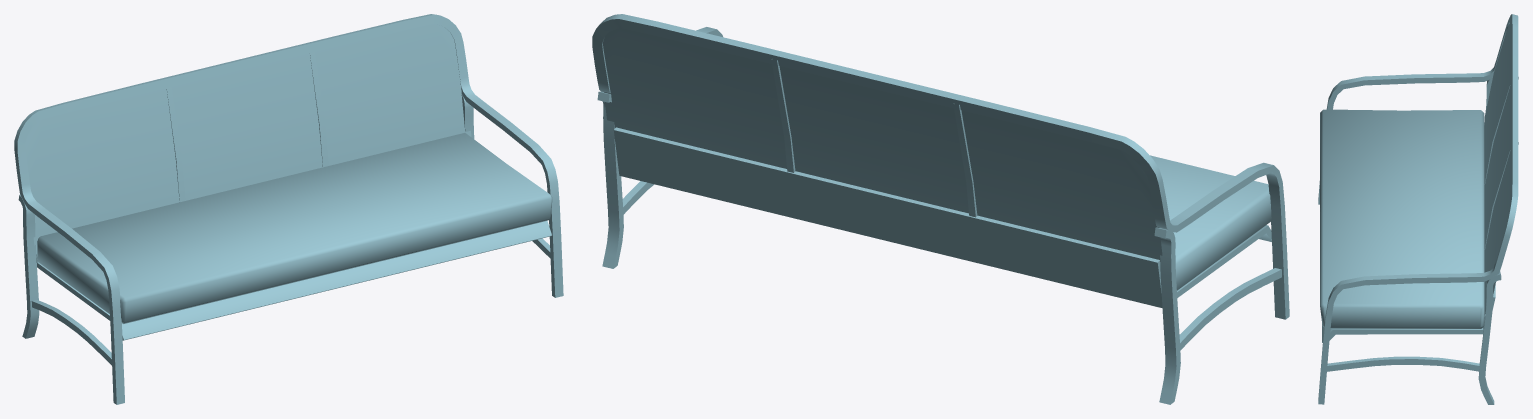
Rendered from lo_Prop_Sofa_A.fbx.
3 renders of one model, left to right at view 1: azimuth 30°, elevation 25°; view 2: azimuth 150°, elevation 25°; view 3: azimuth 270°, elevation 25°, orthographic. The views are drawn at different scales.
Parts seen in each view (by area): view 1: lo_Prop_Sofa_A_LOD0; view 2: lo_Prop_Sofa_A_LOD0; view 3: lo_Prop_Sofa_A_LOD0.
Part boxes in pixels (box(x1,y1,x2,y2)): lo_Prop_Sofa_A_LOD0: box(14, 14, 563, 404); lo_Prop_Sofa_A_LOD0: box(592, 14, 1289, 404); lo_Prop_Sofa_A_LOD0: box(1318, 14, 1518, 404).
Size of what is drawn, in the model's own units: 2.81 by 1.28 by 1.17.
